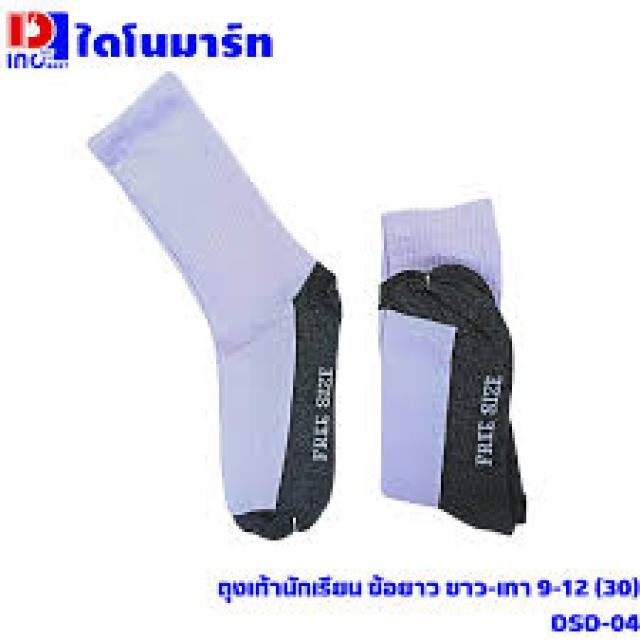sock: (86, 68, 342, 538), (376, 196, 526, 535)
